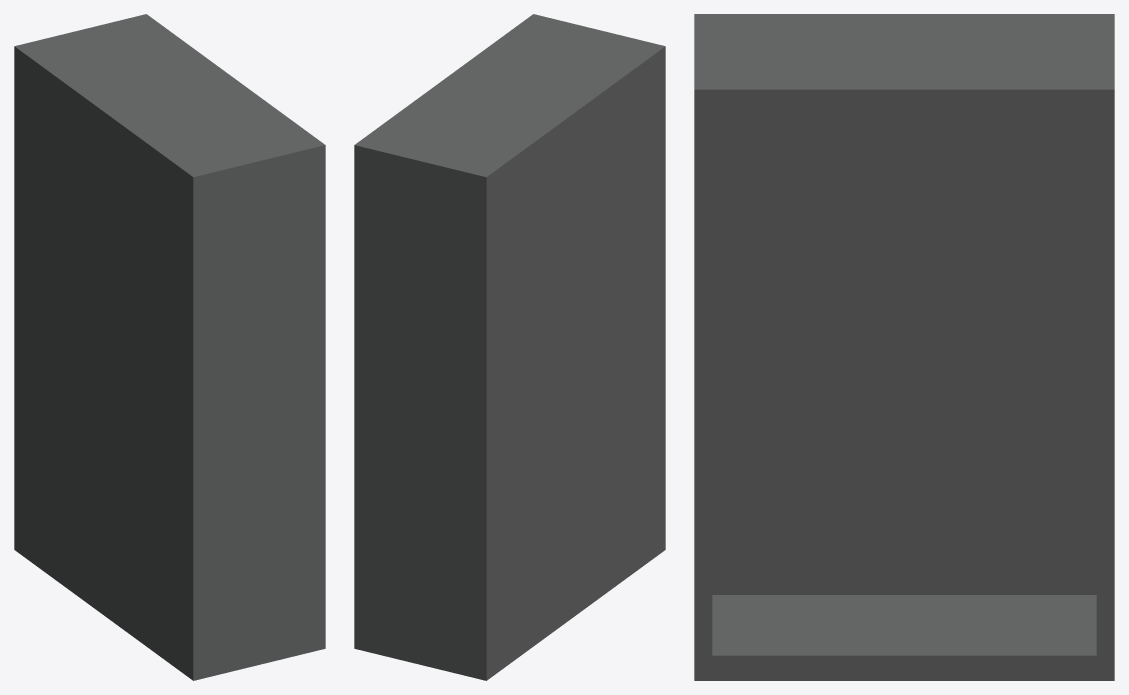
The model's file is caixaEletrica_TEXTURIZADA.fbx.
The picture shows the model from 3 angles, left to right: view 1: azimuth 30°, elevation 25°; view 2: azimuth 150°, elevation 25°; view 3: azimuth 270°, elevation 25°; orthographic projection. The views are drawn at different scales.
Parts seen in each view (by area): view 1: caixa eletrica; view 2: caixa eletrica; view 3: caixa eletrica.
Boxes of the visible parts, x1,y1,x2,y2 form: caixa eletrica: (14,14,325,680); caixa eletrica: (354,14,665,680); caixa eletrica: (694,14,1114,680).
Bounding box in the file's own units: 20.17 × 73.46 × 47.33.
1 material, 1 textured.
